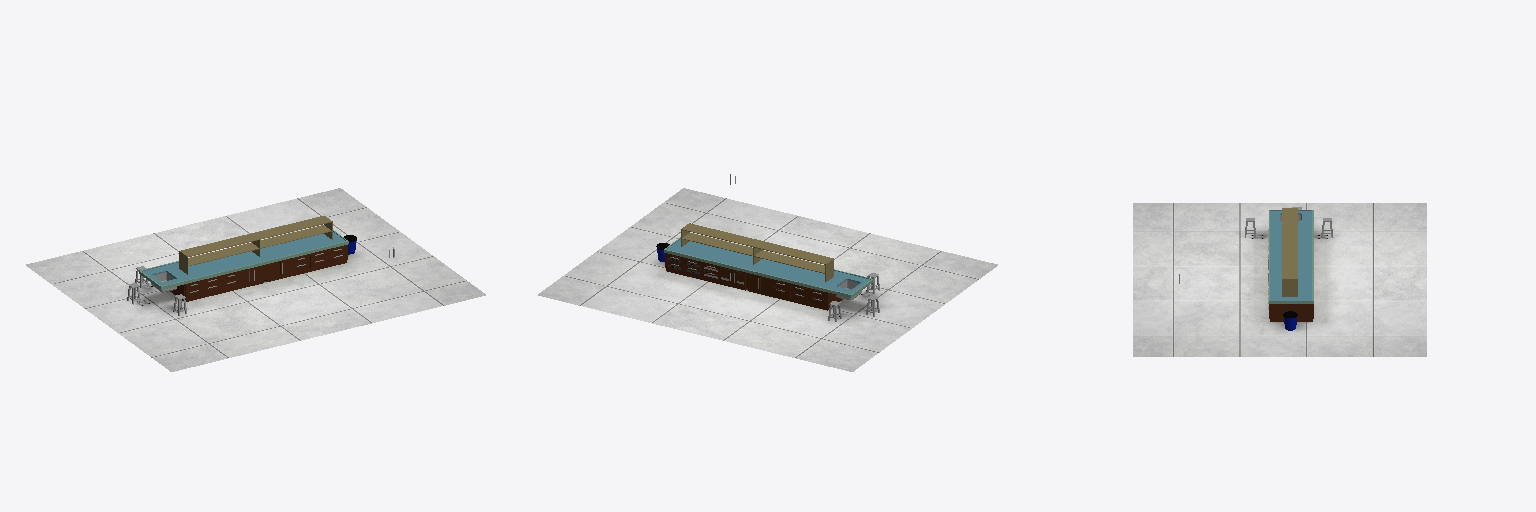
3 renders of one model, left to right at view 1: azimuth 30°, elevation 25°; view 2: azimuth 150°, elevation 25°; view 3: azimuth 270°, elevation 25°, orthographic.
Visible parts, largest first — view 1: Plane.001, bancada_Cube.022, Cube.016; view 2: Plane.001, bancada_Cube.022, Cube.016; view 3: Plane.001, bancada_Cube.022, Cube.016.
Part boxes in pixels (left/top/right/bottom): Plane.001: left=26, top=188, right=485, bottom=371; bancada_Cube.022: left=139, top=230, right=348, bottom=301; Cube.016: left=179, top=216, right=332, bottom=274; Plane.001: left=538, top=188, right=997, bottom=371; bancada_Cube.022: left=664, top=237, right=873, bottom=310; Cube.016: left=681, top=223, right=833, bottom=281; Plane.001: left=1133, top=203, right=1426, bottom=356; bancada_Cube.022: left=1269, top=210, right=1313, bottom=321; Cube.016: left=1282, top=208, right=1297, bottom=296.
Size of the model in its own units: 59.93 by 8.75 by 48.27.
17 materials, 5 textured.